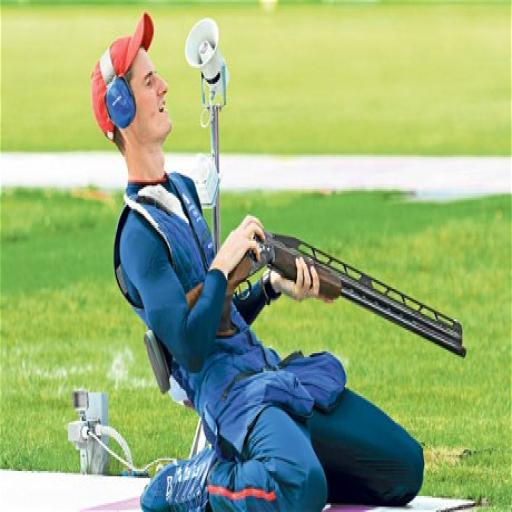shooting: (89, 11, 429, 510)
